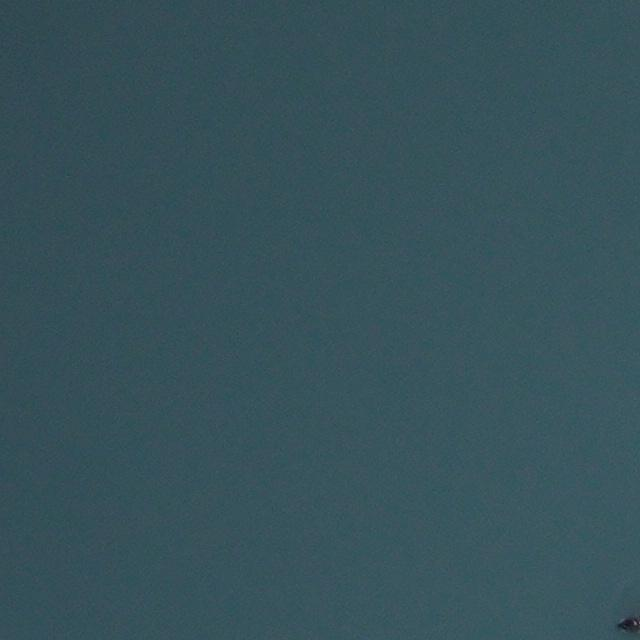seal: (617, 616, 639, 632)
